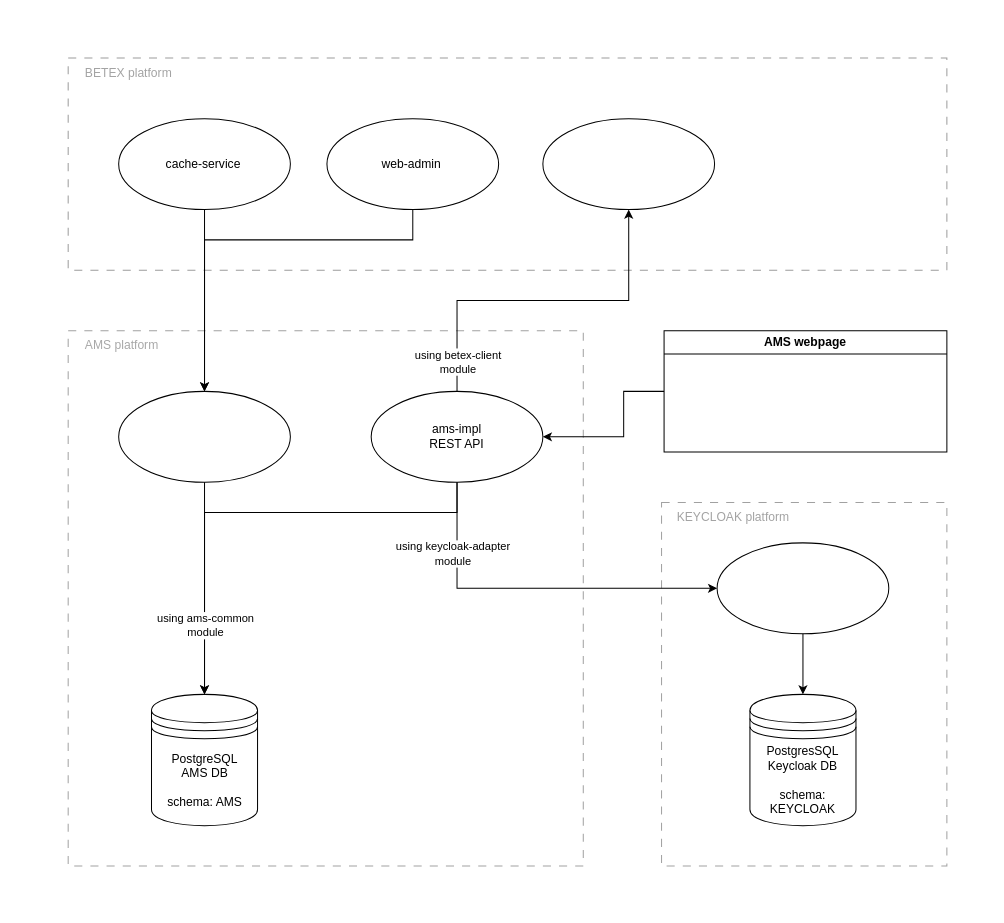
Some shapes in this 1004 by 923 pixel diagram are drawn without their labels. Each missing label, with the box of its shape:
AMS keycloak REST API: (716, 542, 889, 634)
ams-external-api REST API: (118, 390, 290, 482)
api-ams REST API: (542, 118, 715, 210)
